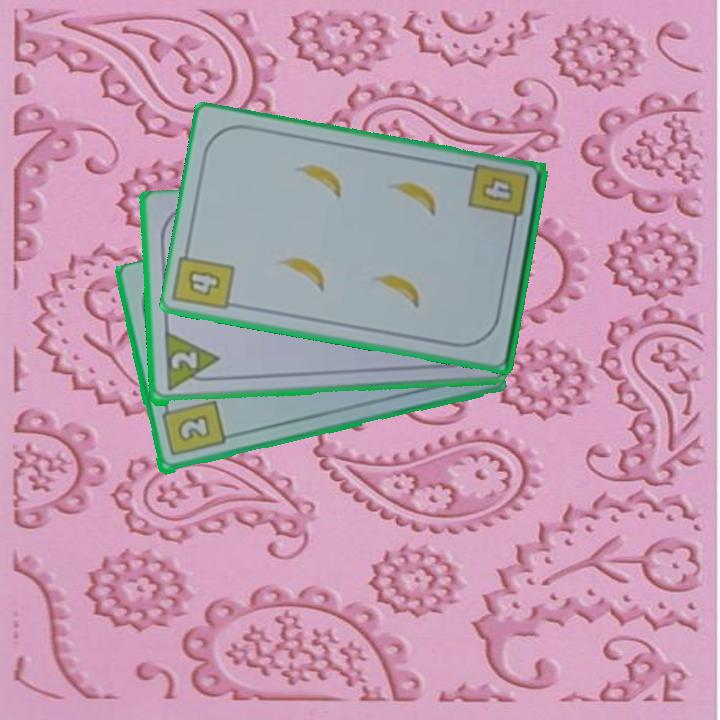2b: (158, 397, 227, 460)
2p: (167, 349, 200, 374)
4b: (466, 160, 532, 233), (183, 267, 223, 300)
